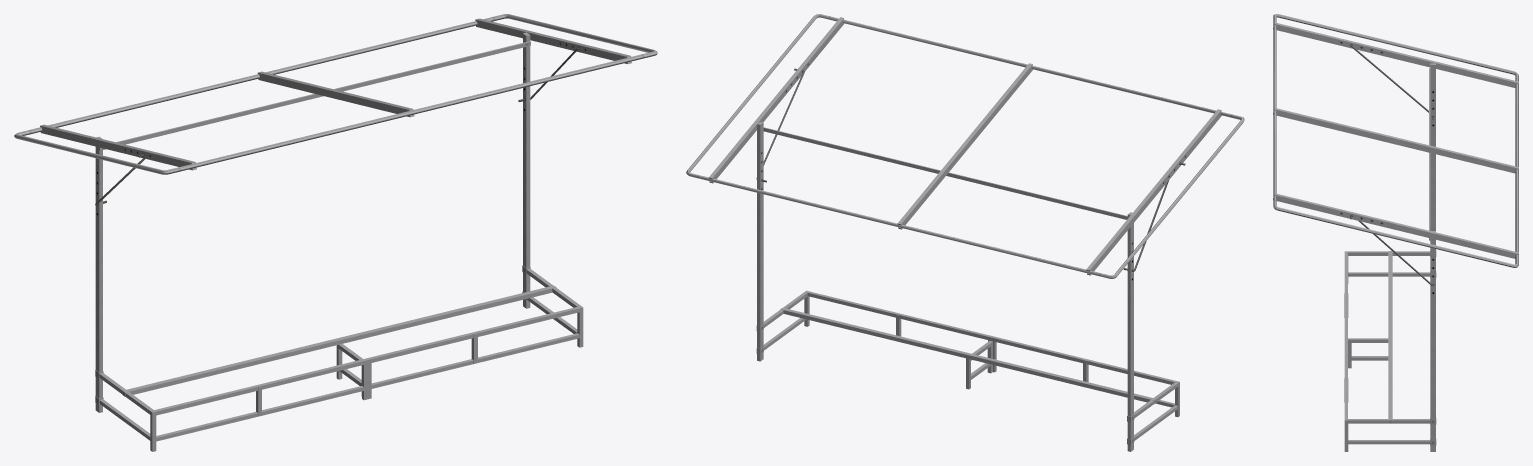
Rendered from jsf_2P_s04_Leg02.fbx.
3 views of the same model, side by side, from view 1: azimuth 30°, elevation 25°; view 2: azimuth 150°, elevation 25°; view 3: azimuth 270°, elevation 25° (orthographic). The views are drawn at different scales.
Parts seen in each view (by area): view 1: jsf_2P_s04_Leg02; view 2: jsf_2P_s04_Leg02; view 3: jsf_2P_s04_Leg02.
Part boxes in pixels (bbox=[...]): jsf_2P_s04_Leg02: bbox=[14, 14, 657, 451]; jsf_2P_s04_Leg02: bbox=[686, 14, 1244, 451]; jsf_2P_s04_Leg02: bbox=[1273, 14, 1518, 451].
Bounding box in the file's own units: 394 × 244 × 210.
